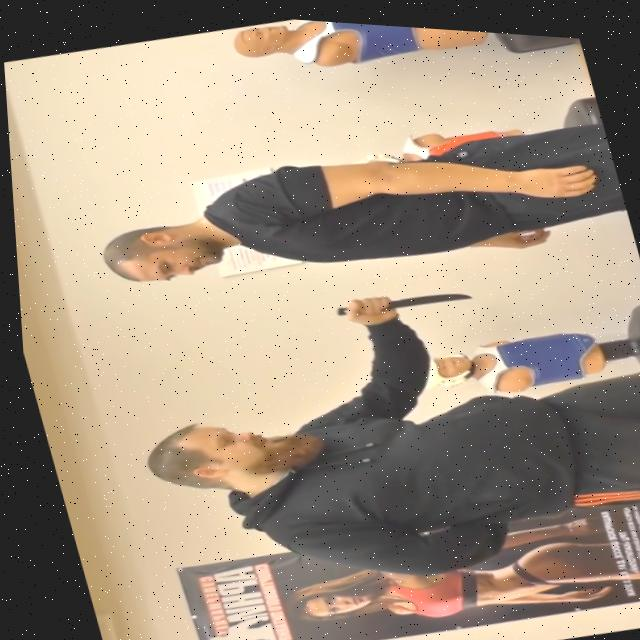knife: (382, 276, 469, 308)
